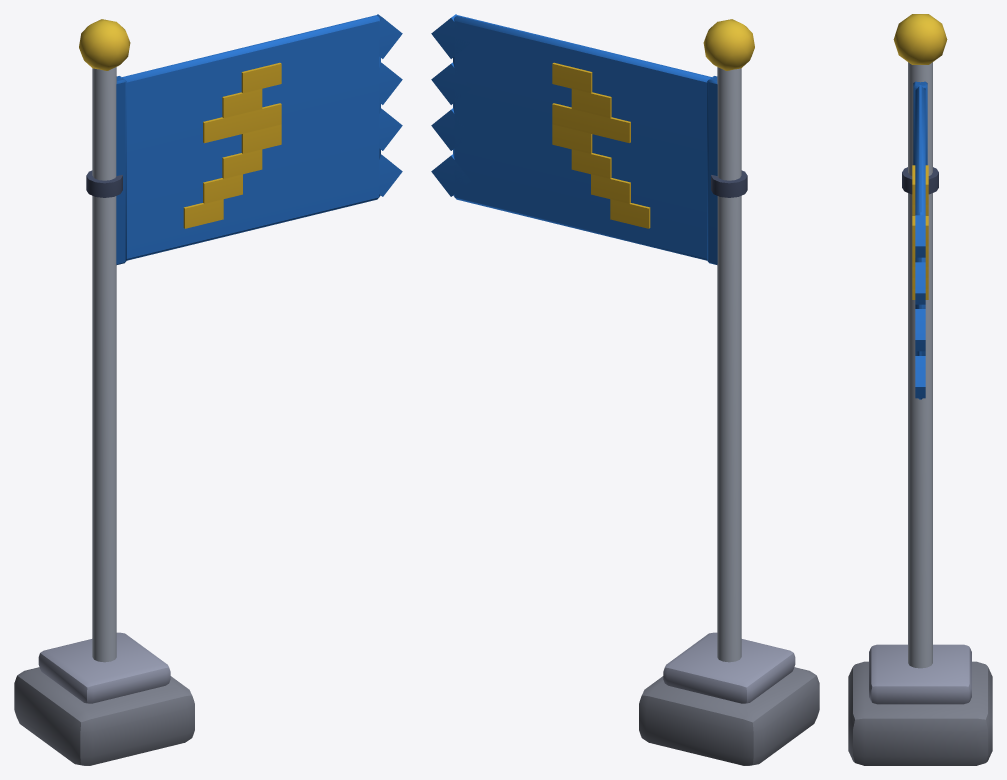
Rendered from lo_flag_sturm.glb.
3 renders of one model, left to right at view 1: azimuth 30°, elevation 25°; view 2: azimuth 150°, elevation 25°; view 3: azimuth 270°, elevation 25°, orthographic.
Visible parts, largest first — view 1: sway_cloth, body; view 2: sway_cloth, body; view 3: body, sway_cloth.
Boxes of the visible parts, x1,y1,x2,y2 form: sway_cloth: (116, 14, 402, 264); body: (14, 19, 194, 765); sway_cloth: (431, 14, 717, 264); body: (639, 19, 819, 765); body: (848, 14, 992, 765); sway_cloth: (912, 81, 928, 399).
Size of the model in its own units: 2.03 by 3.88 by 0.7.
